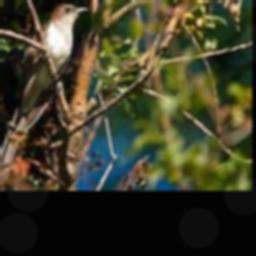Cuckoo: (0, 3, 88, 168)
